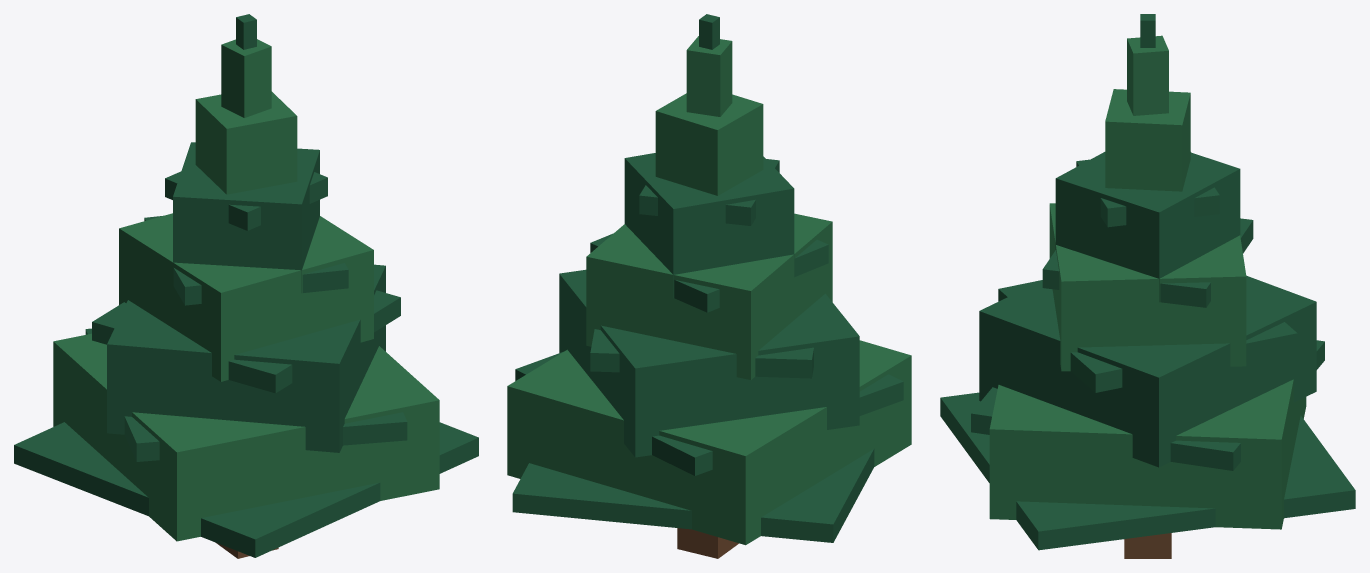
Rendered from A03_spruce_tall.obj.
The picture shows the model from 3 angles, left to right: view 1: azimuth 30°, elevation 25°; view 2: azimuth 150°, elevation 25°; view 3: azimuth 270°, elevation 25°; orthographic projection.
Visible parts, largest first — view 1: A03_spruce_tall; view 2: A03_spruce_tall; view 3: A03_spruce_tall.
Boxes of the visible parts, bbox=[...] form: A03_spruce_tall: bbox=[14, 14, 478, 558]; A03_spruce_tall: bbox=[507, 14, 911, 558]; A03_spruce_tall: bbox=[940, 14, 1355, 558].
Bounding box in the file's own units: 4.82 × 6.8 × 4.82.
